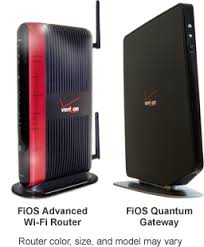Verizon Router: (8, 10, 114, 200)
